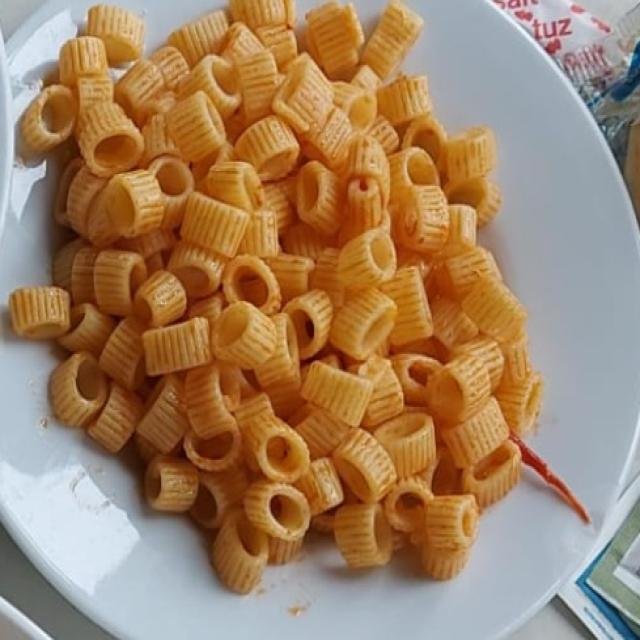ana_yemek: (7, 0, 590, 596)
